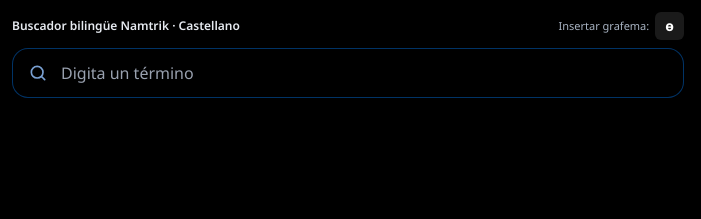
Test: SearchBox › muestra badge "En descripción" y extracto contextual cuando la coincidencia ocurre en explicación (Enmienda 0.4.0)
Type "mundo" into the dropdown at (348, 73), box x1=12 y1=48 x2=684 y2=98
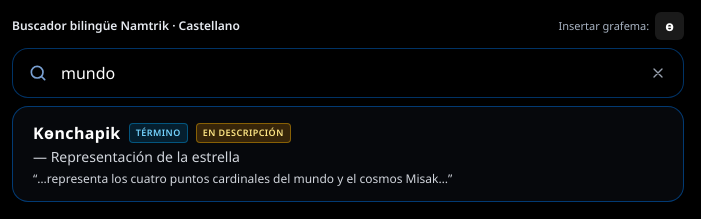
Expected: the text "Kɵnchapik" is shown, x1=33 y1=121 x2=121 y2=145
Expected: the text "En descripción" is shown, x1=196 y1=123 x2=291 y2=143
Expected: the text "representa los cuatro puntos cardinales del mundo" is shown, x1=37 y1=170 x2=448 y2=187
